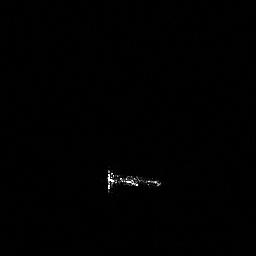ship: (107, 170, 160, 188)
